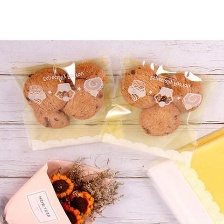snack: (94, 52, 217, 170), (2, 52, 130, 158)
